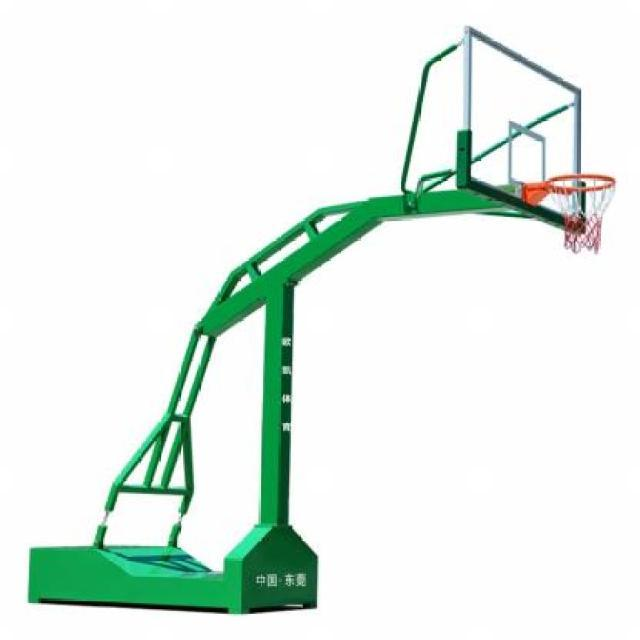rim: (550, 173, 614, 254)
